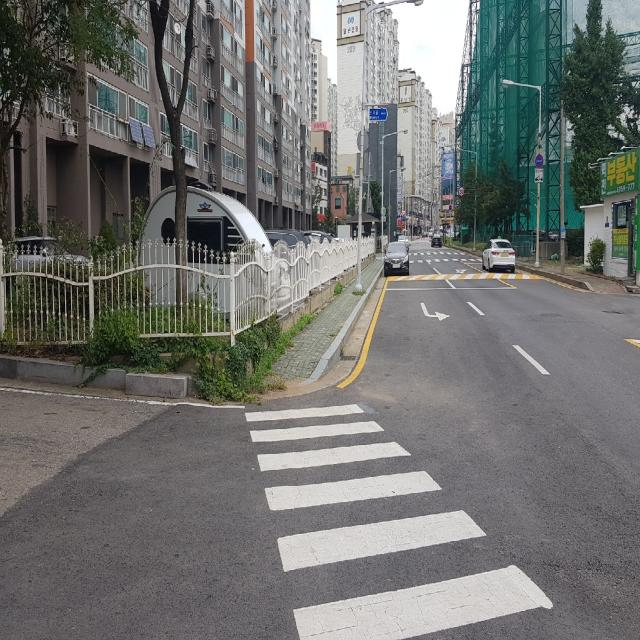횡단보도: (244, 402, 554, 640)
